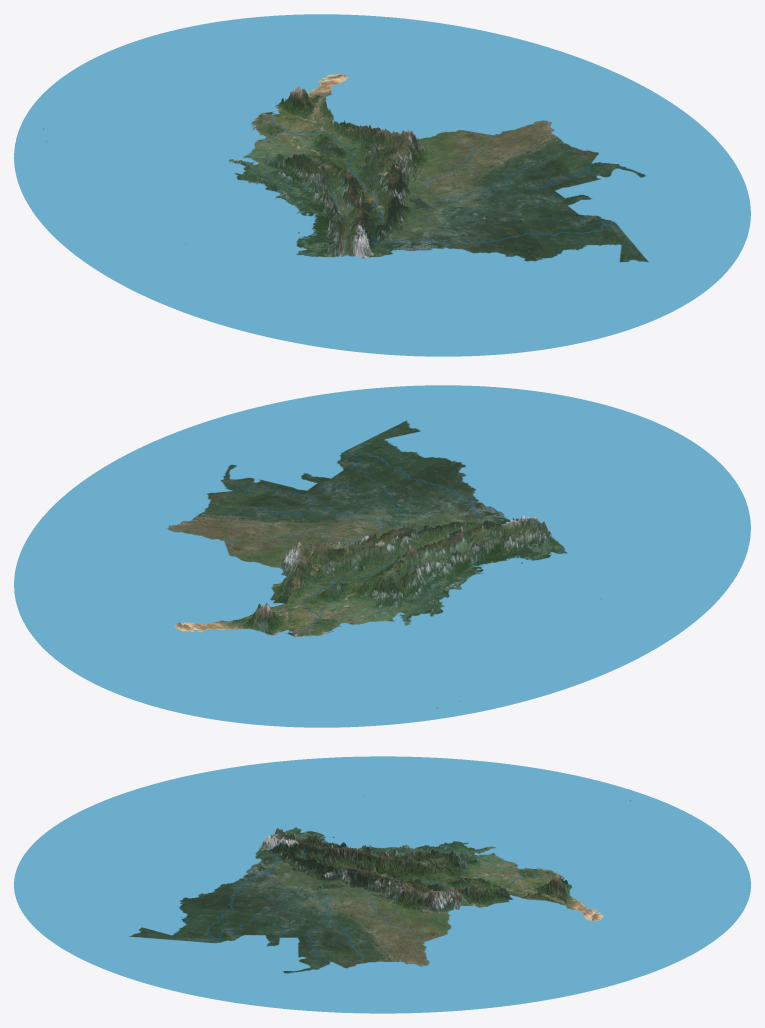
The model's file is COL-previa-terrain.glb.
3 renders of one model, top to bottom at view 1: azimuth 30°, elevation 25°; view 2: azimuth 150°, elevation 25°; view 3: azimuth 270°, elevation 25°, orthographic. The views are drawn at different scales.
Parts seen in each view (by area): view 1: Colômbia; view 2: Colômbia; view 3: Colômbia.
Part boxes in pixels (x1=…): Colômbia: x1=14, y1=14, x2=750, y2=356; Colômbia: x1=14, y1=385, x2=750, y2=727; Colômbia: x1=14, y1=756, x2=750, y2=1013.
Bounding box in the file's own units: 2.11 × 0.0742 × 2.55.
1 material, 1 textured.
